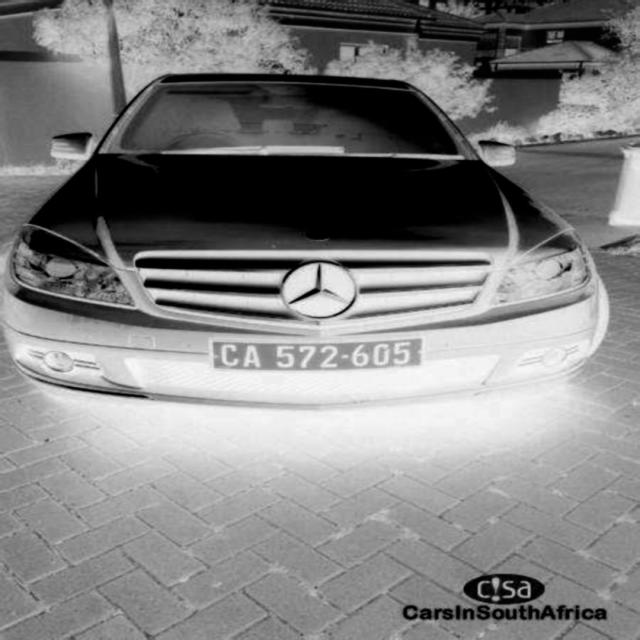Non_registered: (212, 340, 422, 370)
